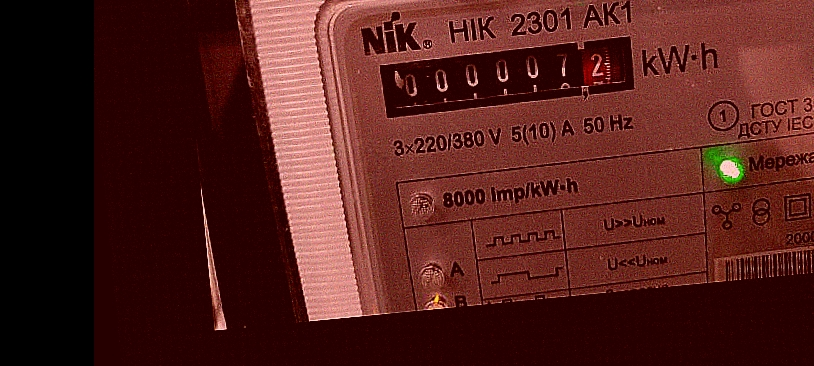0: (432, 65, 452, 95), (462, 60, 482, 89), (523, 51, 542, 81), (402, 70, 421, 99), (494, 55, 511, 84)
2: (588, 49, 607, 80)
7: (553, 50, 572, 80)
screen: (371, 26, 649, 124)
